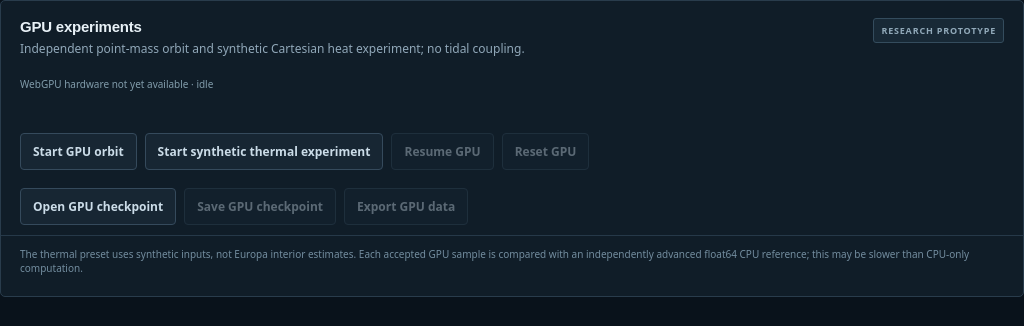
Test: GPU experiment UI › verifies imported checksums before sending a restore, rejecting edits
Click the button "Open GPU checkpoint".
click(98, 206)  # box [20,188,176,225]
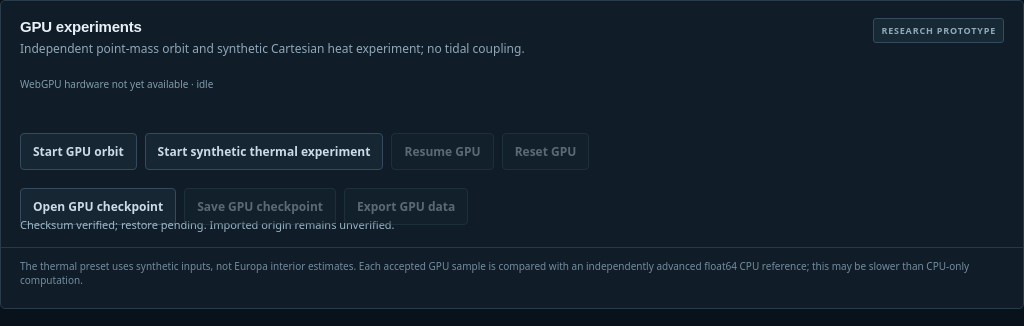
Click the button "Open GPU checkpoint".
click(98, 206)  # box [20,188,176,225]
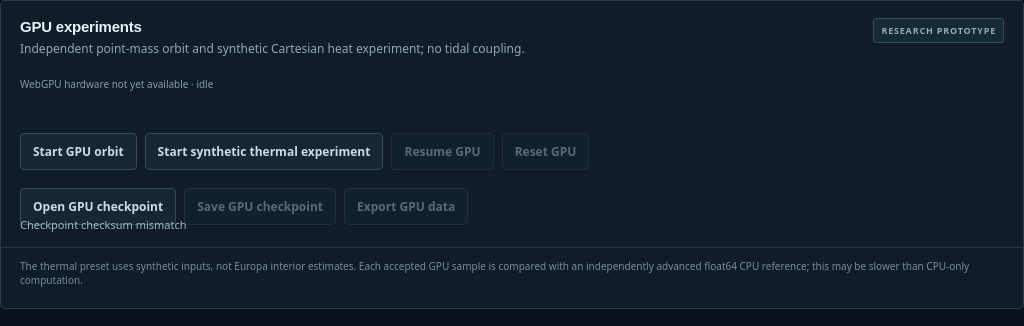
Check: the text "Checkpoint checksum mismatch" is shown, box [20,217,186,232]
